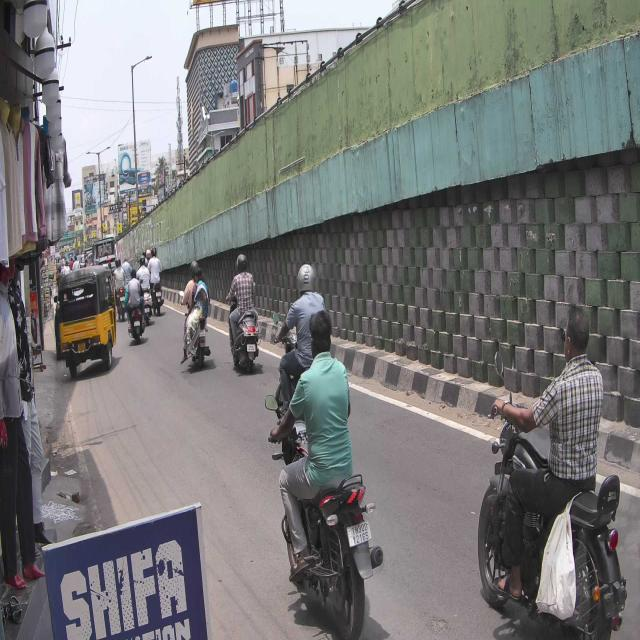single_rider: (478, 303, 629, 640), (266, 309, 385, 640)
